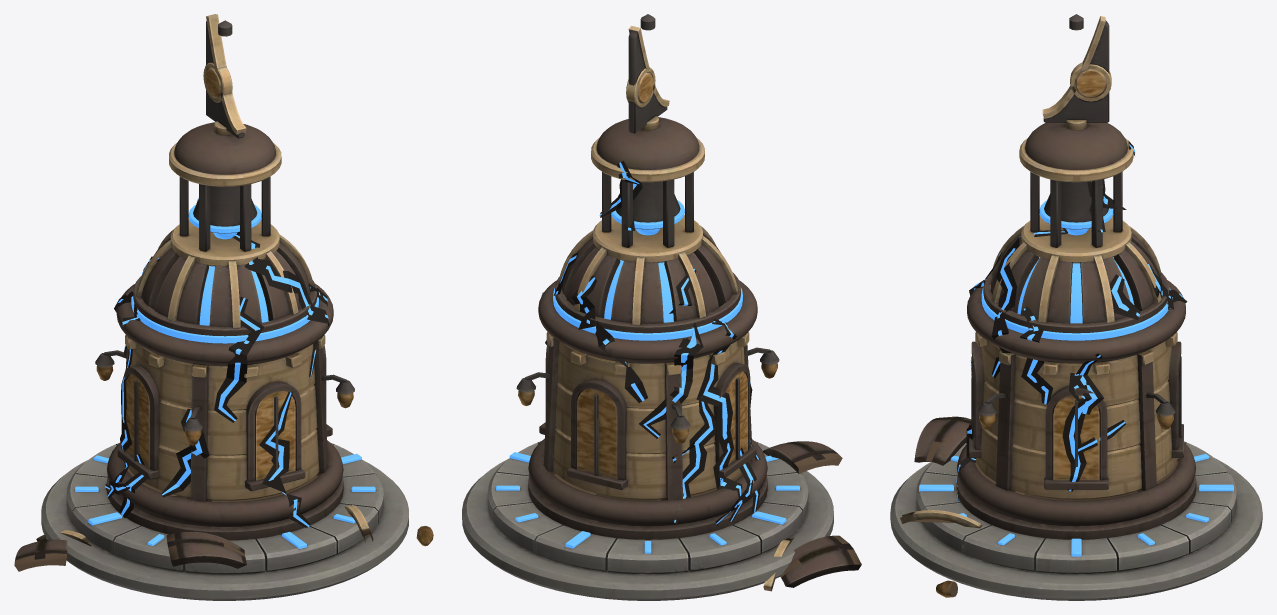
File: needle_bell_serenade.glb
3 views of the same model, side by side, from view 1: azimuth 30°, elevation 25°; view 2: azimuth 150°, elevation 25°; view 3: azimuth 270°, elevation 25° (orthographic).
Visible parts, largest first — view 1: needle_bell_serenade_upper, needle_bell_serenade_base, needle_bell_serenade_dmg1, needle_bell_serenade_ruin, needle_bell_serenade_glow.001, needle_bell_serenade_chip1, needle_bell_serenade_chip2, needle_bell_serenade_dmg2, needle_bell_serenade_glow_base; view 2: needle_bell_serenade_upper, needle_bell_serenade_base, needle_bell_serenade_dmg1, needle_bell_serenade_ruin, needle_bell_serenade_dmg2, needle_bell_serenade_glow.001, needle_bell_serenade_chip1, needle_bell_serenade_glow_base, needle_bell_serenade_chip2; view 3: needle_bell_serenade_upper, needle_bell_serenade_base, needle_bell_serenade_dmg1, needle_bell_serenade_ruin, needle_bell_serenade_glow.001, needle_bell_serenade_dmg2, needle_bell_serenade_chip1, needle_bell_serenade_chip2, needle_bell_serenade_glow_base.
Boxes of the visible parts, x1,y1,x2,y2 form: needle_bell_serenade_upper: [95, 14, 354, 540]; needle_bell_serenade_base: [41, 442, 408, 600]; needle_bell_serenade_dmg1: [107, 213, 329, 527]; needle_bell_serenade_ruin: [14, 435, 433, 571]; needle_bell_serenade_glow.001: [131, 204, 318, 343]; needle_bell_serenade_chip1: [125, 20, 240, 349]; needle_bell_serenade_chip2: [148, 67, 325, 377]; needle_bell_serenade_dmg2: [105, 198, 209, 517]; needle_bell_serenade_glow_base: [75, 453, 375, 548]; needle_bell_serenade_upper: [516, 25, 779, 539]; needle_bell_serenade_base: [462, 441, 833, 600]; needle_bell_serenade_dmg1: [553, 252, 742, 522]; needle_bell_serenade_ruin: [541, 419, 861, 591]; needle_bell_serenade_dmg2: [541, 161, 760, 525]; needle_bell_serenade_glow.001: [553, 200, 742, 340]; needle_bell_serenade_chip1: [558, 14, 725, 365]; needle_bell_serenade_glow_base: [496, 452, 799, 553]; needle_bell_serenade_chip2: [637, 72, 749, 346]; needle_bell_serenade_upper: [956, 16, 1196, 539]; needle_bell_serenade_base: [890, 441, 1262, 600]; needle_bell_serenade_dmg1: [956, 228, 1187, 501]; needle_bell_serenade_ruin: [900, 416, 1182, 597]; needle_bell_serenade_glow.001: [981, 200, 1170, 340]; needle_bell_serenade_dmg2: [1062, 140, 1135, 491]; needle_bell_serenade_chip1: [991, 14, 1177, 346]; needle_bell_serenade_chip2: [999, 69, 1106, 365]; needle_bell_serenade_glow_base: [919, 454, 1233, 556].
Size of the model in its own units: 3.52 by 4.64 by 3.03.
Materials: 4 (1 with a texture image).
